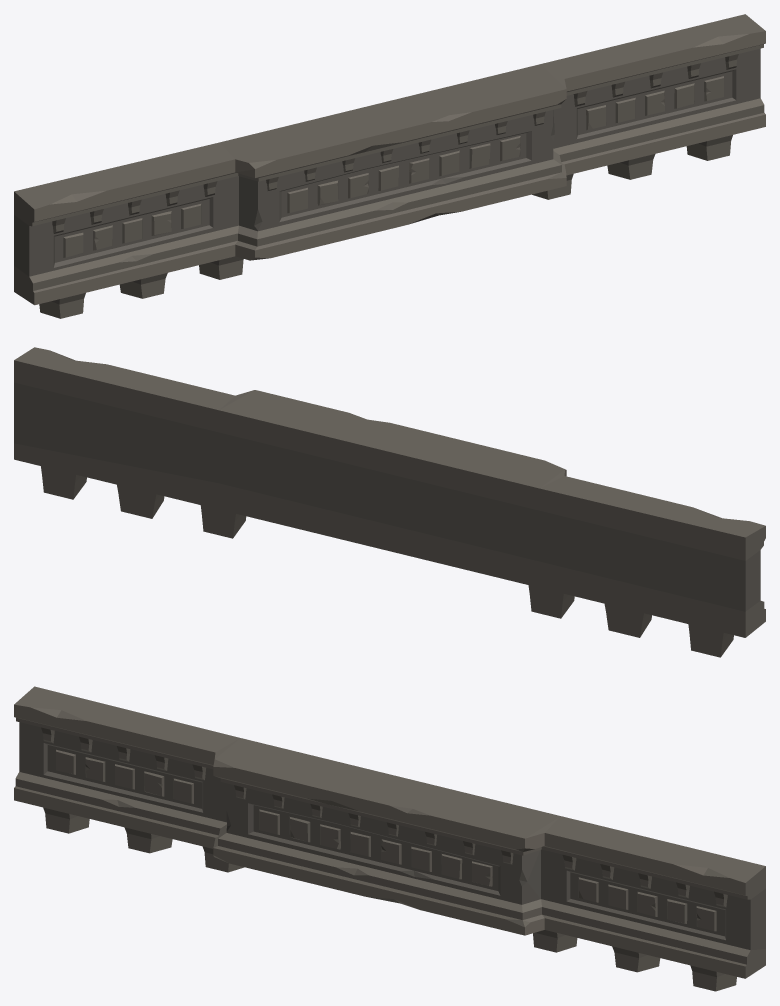
File: SM_Bld_Trim_Triple_02.fbx
The picture shows the model from 3 angles, top to bottom: view 1: azimuth 30°, elevation 25°; view 2: azimuth 150°, elevation 25°; view 3: azimuth 330°, elevation 25°; orthographic projection.
Visible parts, largest first — view 1: SM_Bld_Trim_Triple_02; view 2: SM_Bld_Trim_Triple_02; view 3: SM_Bld_Trim_Triple_02.
Boxes of the visible parts, bbox=[...] form: SM_Bld_Trim_Triple_02: bbox=[14, 14, 765, 318]; SM_Bld_Trim_Triple_02: bbox=[14, 347, 765, 657]; SM_Bld_Trim_Triple_02: bbox=[14, 686, 765, 991].
Size of the model in its own units: 750 by 124 by 55.15.
